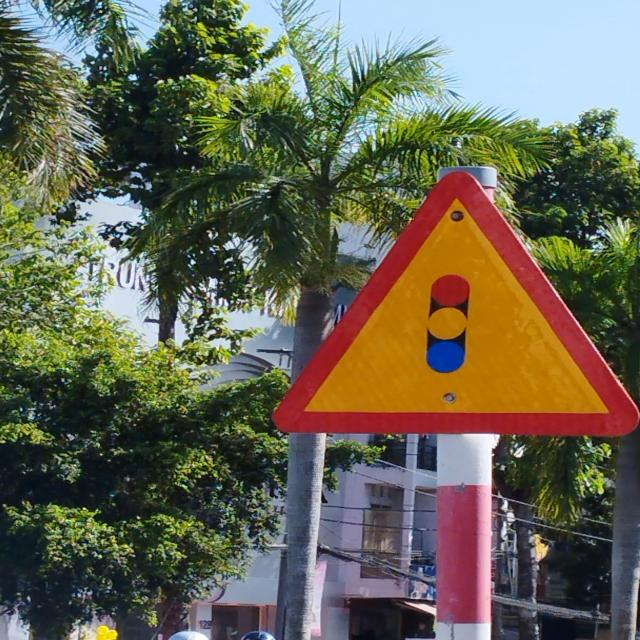Duong_Co_Go_Giam_Toc: (268, 170, 640, 438)
